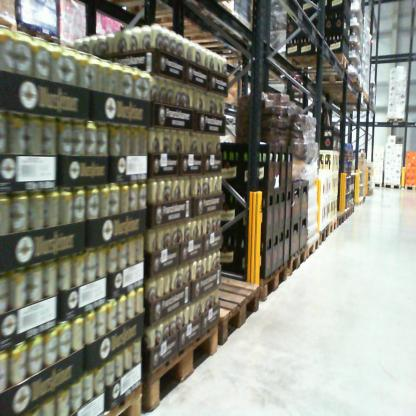pallet: (144, 317, 226, 412), (207, 264, 267, 352), (291, 48, 351, 79), (259, 257, 295, 304), (107, 375, 146, 416), (18, 18, 59, 49), (307, 74, 363, 93), (287, 235, 311, 277), (303, 226, 322, 262), (3, 9, 18, 39), (328, 214, 341, 238), (320, 216, 330, 246), (335, 210, 346, 234), (386, 112, 405, 125), (344, 200, 353, 225), (384, 181, 403, 191), (372, 178, 384, 189), (355, 195, 363, 210), (405, 183, 415, 194), (351, 202, 357, 216), (362, 194, 367, 203)
